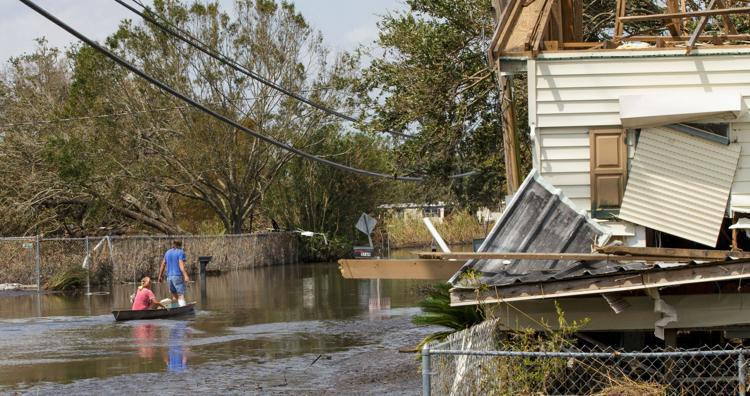destroyed: (478, 0, 750, 389)
